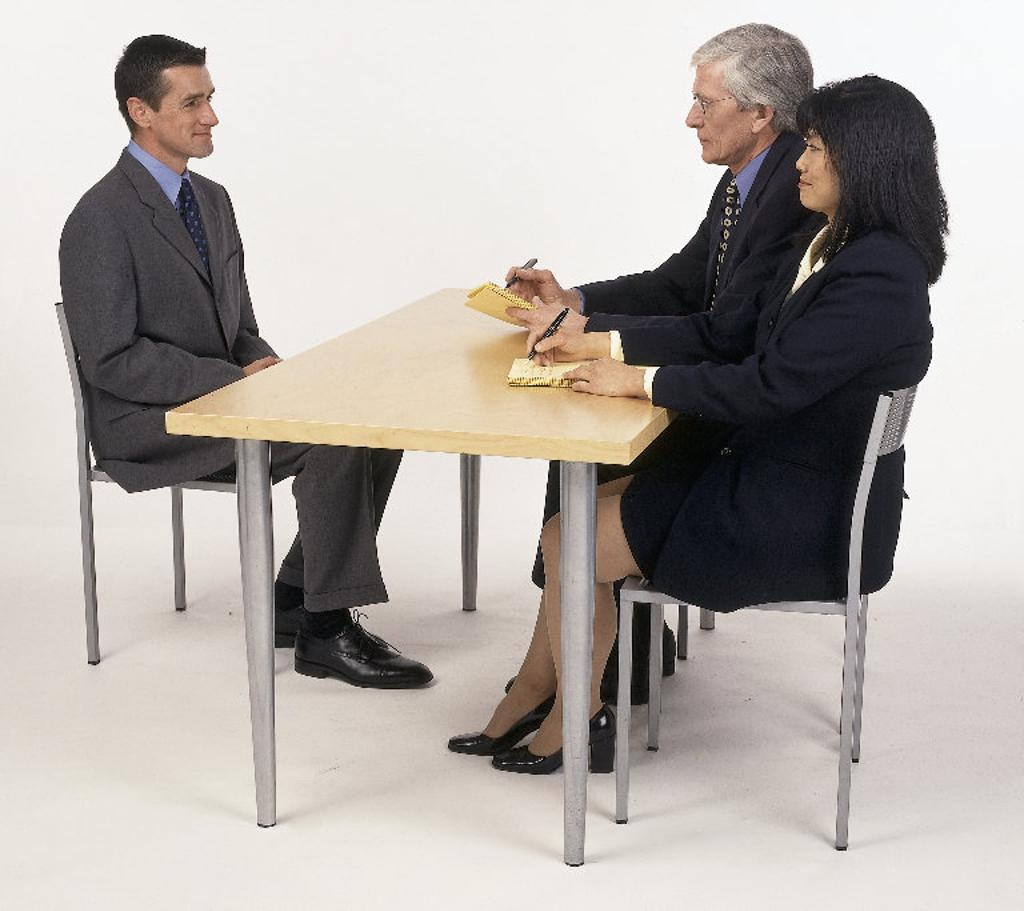face: (686, 60, 750, 166), (162, 60, 220, 158), (784, 126, 850, 212)
